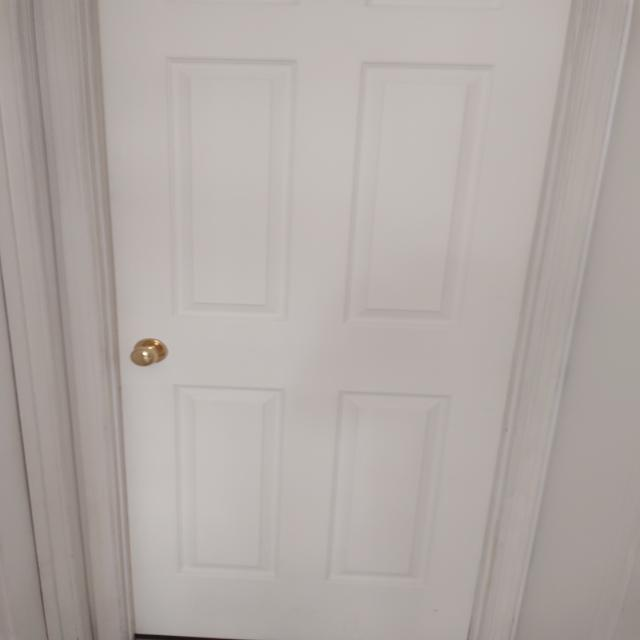door-knob: (130, 339, 167, 366)
